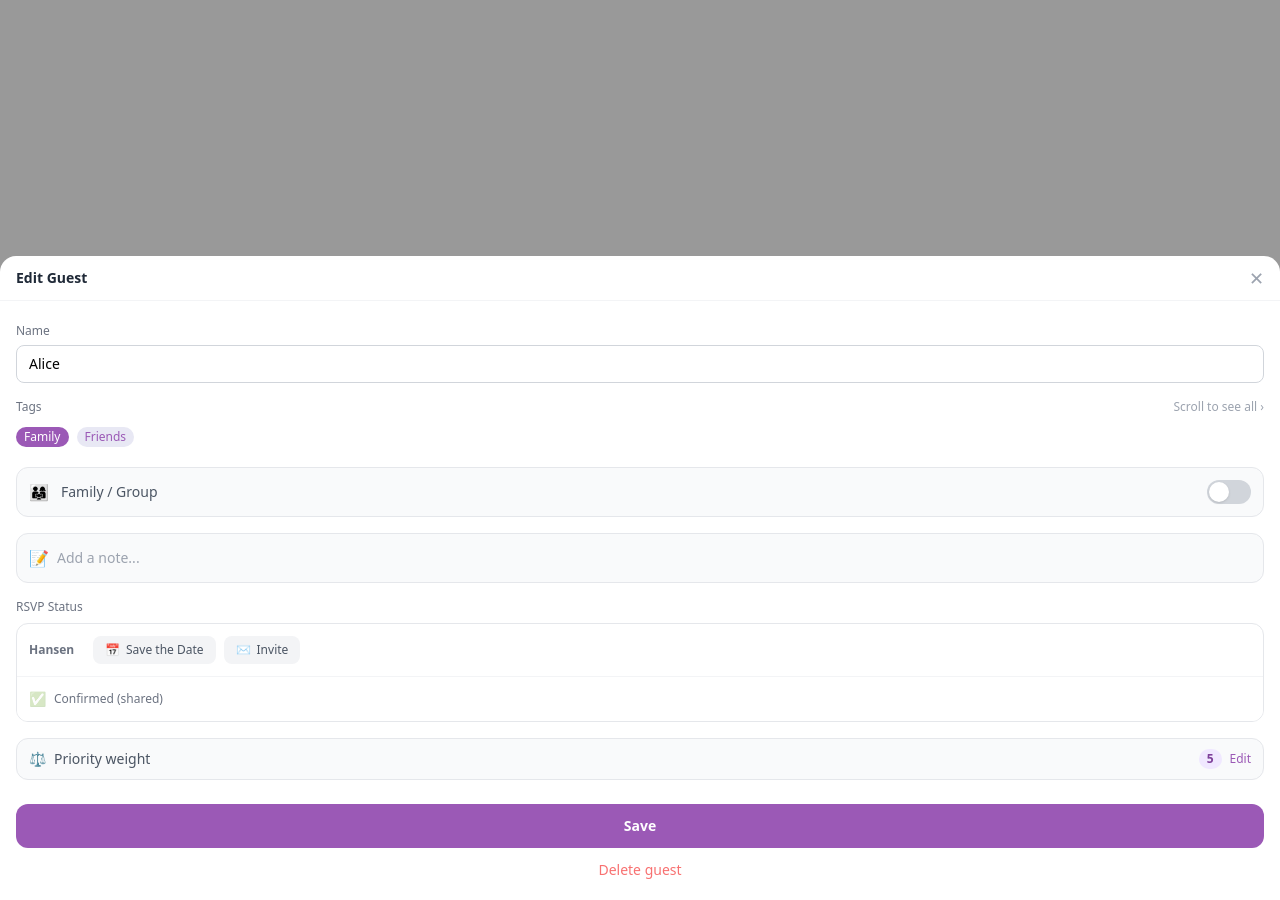
Test: GuestEditSheet › shows unarchive prompt after RSVP toggle on archived guest
Click the button with aria-label "saveTheDateSent": [154, 650] box [93,636,216,664]
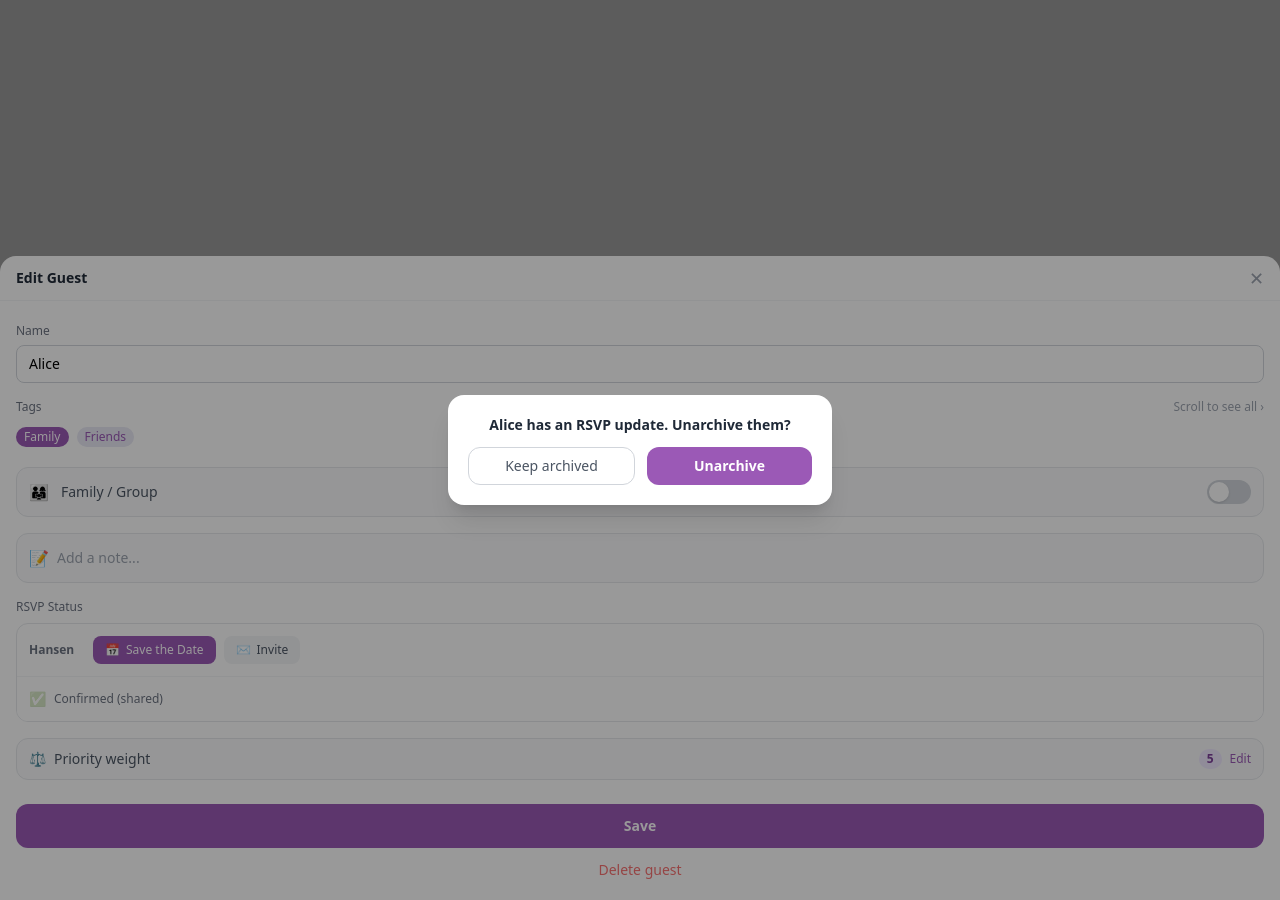
Now the text "Alice has an RSVP update. Unarchive them?" is shown, box [468,415,812,435]
